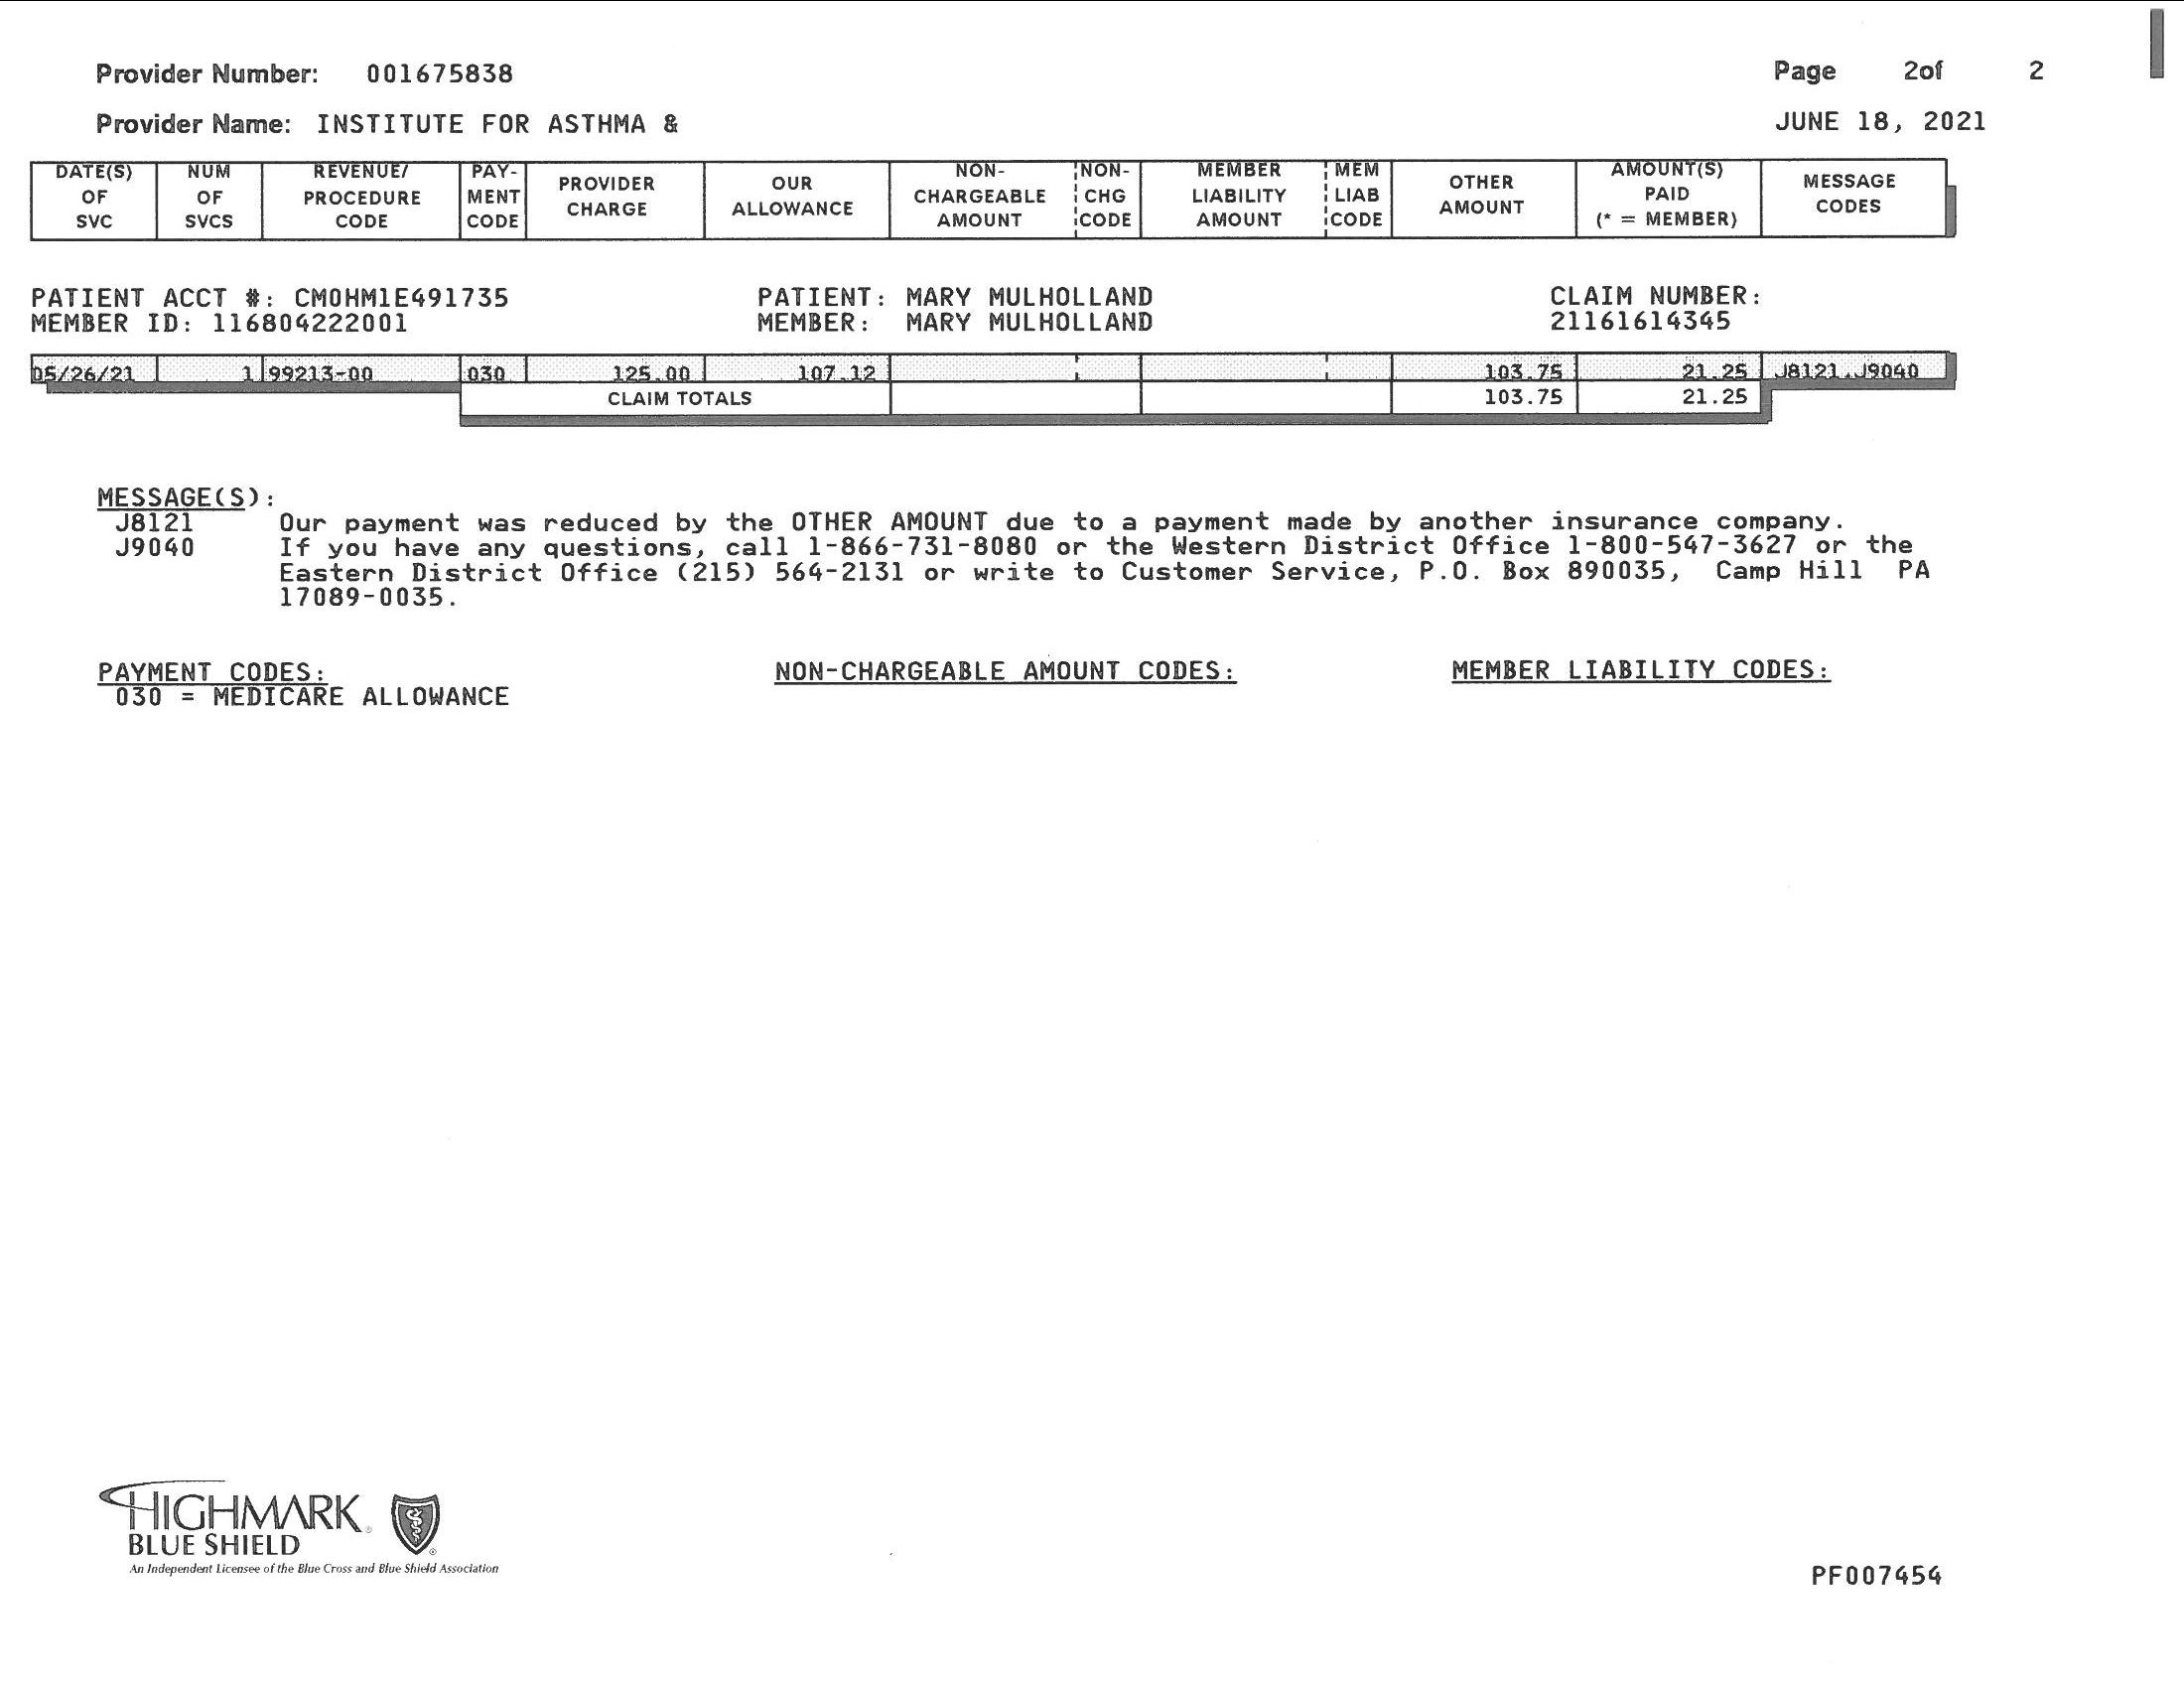data: (76, 44, 700, 145), (23, 277, 546, 344), (753, 275, 1161, 344), (1540, 273, 1785, 349)
table: (19, 152, 1969, 454)
